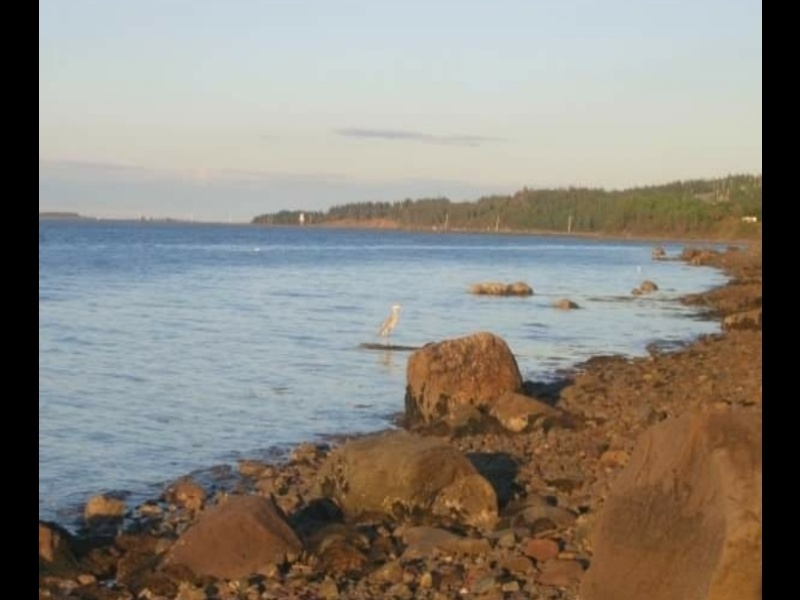heron: (376, 301, 405, 344)
